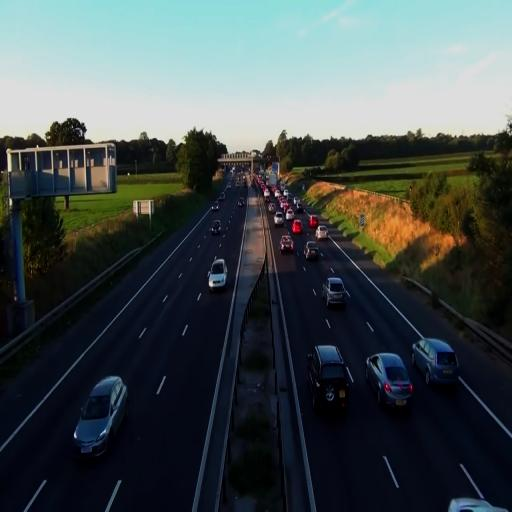vehicle: (72, 374, 129, 458), (306, 343, 352, 413), (364, 352, 414, 411), (411, 337, 458, 388), (323, 276, 349, 310), (208, 258, 228, 290), (304, 241, 320, 262), (280, 234, 294, 254), (316, 225, 330, 242), (273, 210, 285, 225), (211, 222, 222, 236)
